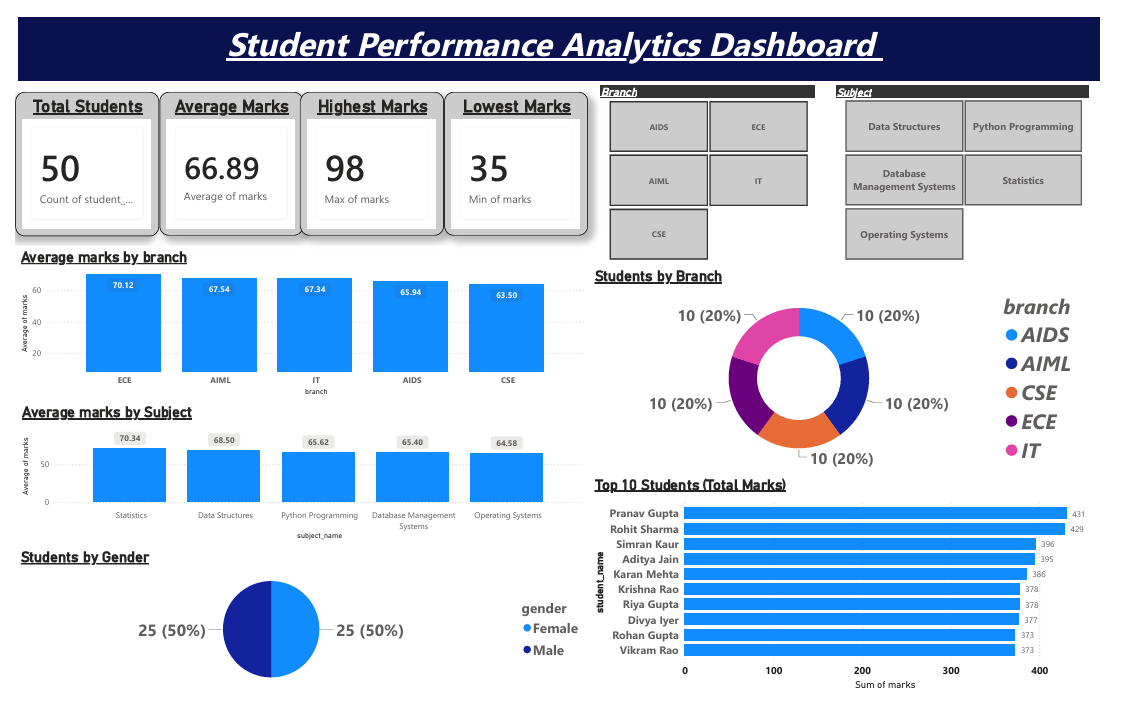

The dashboard page shown, as its layout file describes it:
{"tool":"powerbi","page":{"name":"Page 1","canvas":[1600,1000],"ordinal":0},"visuals":[{"type":"cardVisual","title":"Average Marks ","fields":{"Data":["Avg(final_dataset.marks)"]},"box":[212,110,212,212],"z":0},{"type":"cardVisual","title":"Highest Marks ","fields":{"Data":["Max(final_dataset.marks)"]},"box":[420,110,212,212],"z":1000},{"type":"cardVisual","title":"Total Students ","fields":{"Data":["Count(final_dataset.student_name)"]},"box":[0,110,212,212.5],"z":2000},{"type":"clusteredColumnChart","title":"Average marks by branch","fields":{"Category":["final_dataset.branch"],"Y":["Avg(final_dataset.marks)"]},"box":[0,337.5,847.5,227.5],"z":3000},{"type":"clusteredColumnChart","title":"Average marks by Subject","fields":{"Category":["final_dataset.subject_name"],"Y":["Avg(final_dataset.marks)"]},"box":[0,565,847.5,215],"z":4000},{"type":"clusteredBarChart","title":"Top 10 Students (Total Marks)","fields":{"Y":["Sum(final_dataset.marks)"],"Category":["final_dataset.student_name"]},"box":[846.7,673.3,753.3,326.7],"z":5000},{"type":"pieChart","title":"Students by Gender","fields":{"Category":["final_dataset.gender"],"Y":["Count(final_dataset.student_id)"]},"box":[0,780,847.5,220],"z":6000},{"type":"donutChart","title":"Students by Branch","fields":{"Category":["final_dataset.branch"],"Y":["Count(final_dataset.student_id)"]},"box":[846.7,366.7,753.3,306.7],"z":7000},{"type":"slicer","fields":{"Values":["final_dataset.branch"]},"box":[847.5,92.5,347.5,275],"z":8000},{"type":"slicer","fields":{"Values":["final_dataset.subject_name"]},"box":[1195,92.5,405,275],"z":9000},{"type":"cardVisual","title":"Lowest Marks","fields":{"Data":["Min(final_dataset.marks)"]},"box":[632,110,212,212],"z":10000},{"type":"textbox","box":[5,0,1595,92.5],"z":11000}]}

Visuals, with their boxes in screenshot pixels (x1, y1, x2, y2), scaled from the page's 1600x1000 canvas onto the 1135x715 screenshot:
"Average Marks " cardVisual: box=[150, 79, 301, 230]
"Highest Marks " cardVisual: box=[298, 79, 448, 230]
"Total Students " cardVisual: box=[0, 79, 150, 231]
"Average marks by branch" clusteredColumnChart: box=[0, 241, 601, 404]
"Average marks by Subject" clusteredColumnChart: box=[0, 404, 601, 558]
"Top 10 Students (Total Marks)" clusteredBarChart: box=[601, 481, 1134, 714]
"Students by Gender" pieChart: box=[0, 558, 601, 714]
"Students by Branch" donutChart: box=[601, 262, 1134, 481]
slicer - final_dataset.branch: box=[601, 66, 848, 263]
slicer - final_dataset.subject_name: box=[848, 66, 1134, 263]
"Lowest Marks" cardVisual: box=[448, 79, 599, 230]
textbox: box=[4, 0, 1134, 66]
